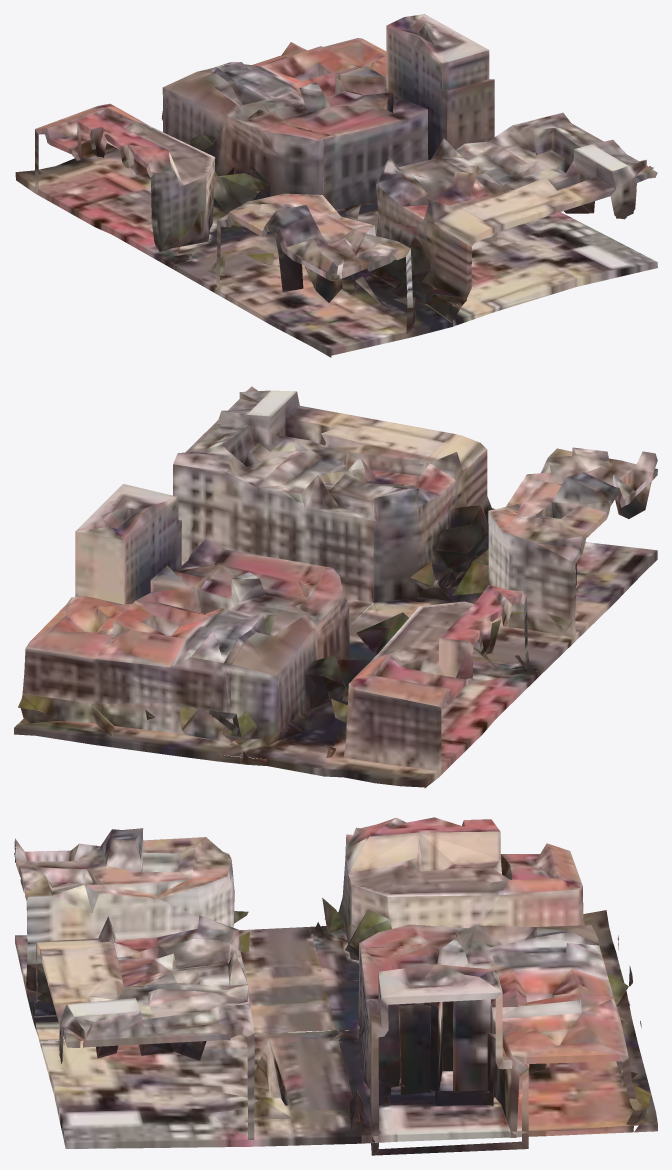
3 renders of one model, top to bottom at view 1: azimuth 30°, elevation 25°; view 2: azimuth 150°, elevation 25°; view 3: azimuth 270°, elevation 25°, orthographic. The views are drawn at different scales.
Visible parts, largest first — view 1: Mesh_0; view 2: Mesh_0; view 3: Mesh_0.
Boxes of the visible parts, x1,y1,x2,y2 form: Mesh_0: (15,14,657,357); Mesh_0: (14,386,657,788); Mesh_0: (14,817,657,1155).
Size of the model in its own units: 134 by 48.33 by 165.
Materials: 1 (1 with a texture image).
